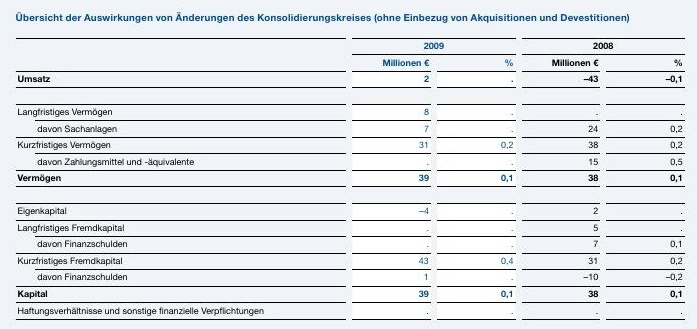table: (0, 0, 697, 329)
